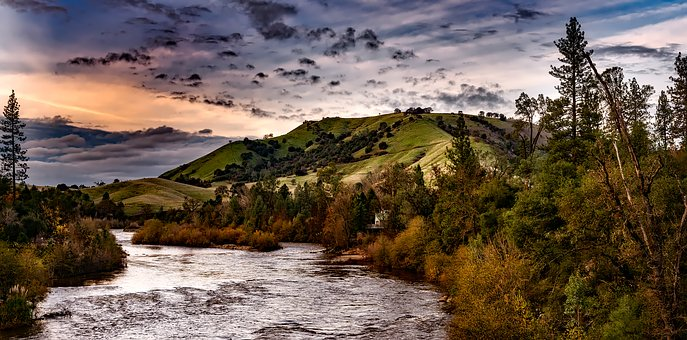forest: (415, 100, 684, 340)
mountain: (149, 114, 687, 305)
sky: (6, 3, 648, 122)
